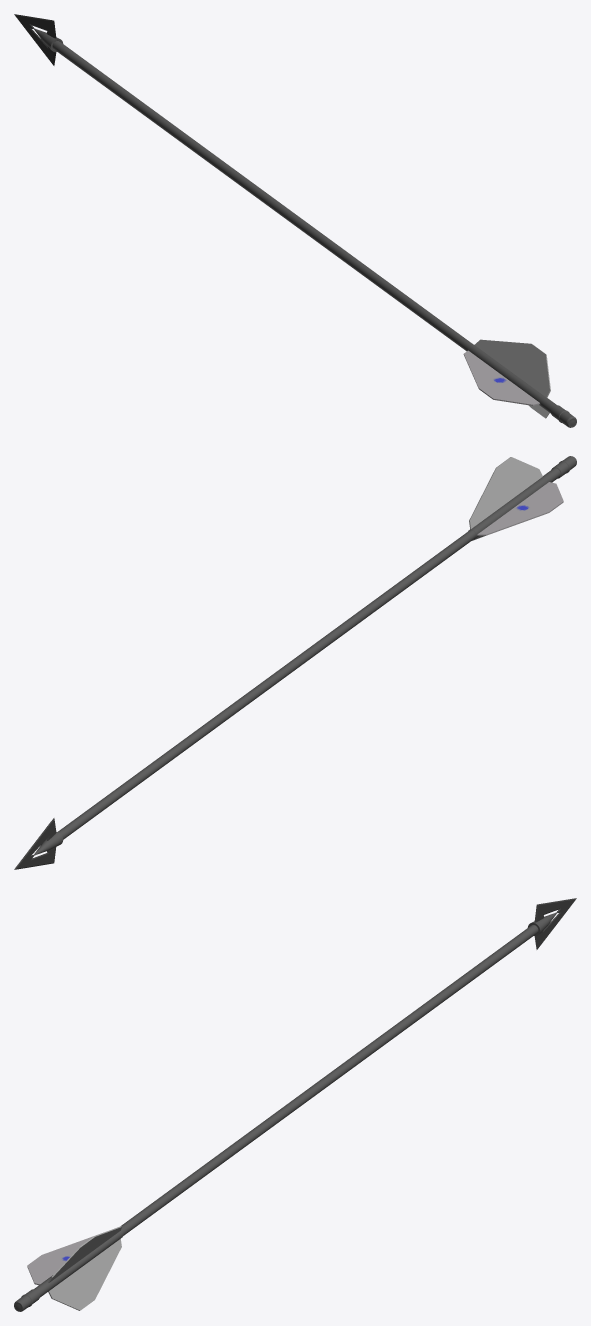
The model's file is Arrow.fbx.
The picture shows the model from 3 angles, top to bottom: view 1: azimuth 30°, elevation 25°; view 2: azimuth 150°, elevation 25°; view 3: azimuth 330°, elevation 25°; orthographic projection.
Visible parts, largest first — view 1: node_id6, node_id14, node_id12, node_id10; view 2: node_id6, node_id14, node_id12, node_id10; view 3: node_id6, node_id16, node_id12, node_id10, node_id14.
Part boxes in pixels (x1,y1,x2,y2): node_id6: [52, 41, 576, 427]; node_id14: [475, 339, 550, 397]; node_id12: [463, 350, 539, 405]; node_id10: [14, 14, 56, 65]; node_id6: [58, 456, 576, 839]; node_id14: [469, 457, 542, 529]; node_id12: [477, 482, 563, 535]; node_id10: [14, 818, 56, 869]; node_id6: [14, 925, 538, 1311]; node_id16: [48, 1239, 121, 1310]; node_id12: [27, 1235, 96, 1285]; node_id10: [534, 898, 576, 949]; node_id14: [48, 1226, 121, 1282].
Bounding box in the file's own units: 0.0282 × 0.0325 × 0.512.
Materials: 6 (1 with a texture image).
